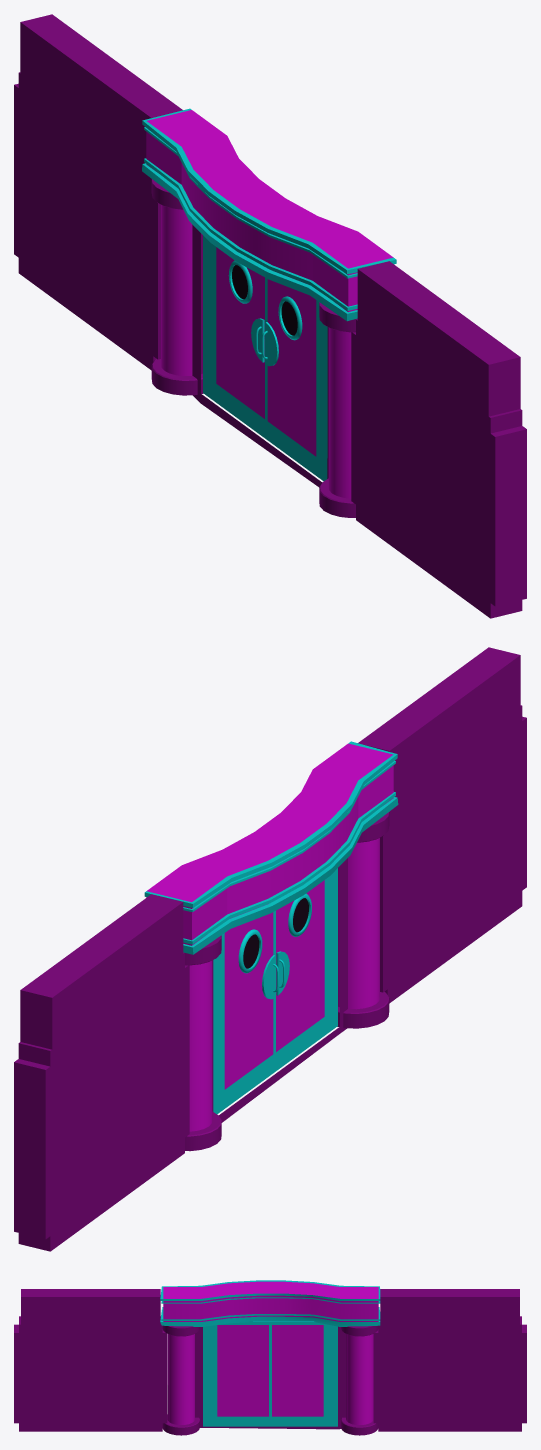
Rendered from WW_CinemaRoom_Env_01.fbx.
3 views of the same model, one above another, from view 1: azimuth 30°, elevation 25°; view 2: azimuth 150°, elevation 25°; view 3: azimuth 270°, elevation 25° (orthographic). The views are drawn at different scales.
Visible parts, largest first — view 1: WW_CinemaCorrodorWall_02, WW_CinemaCorrodorWall_01, CinemaRoomTop_geo_01, Door_geo_01 (×2), CinemaRoomPillar_geo_02, CinemaRoomPillar_geo_01, Doortrim_geo_01, CinemaRoomBase_geo_01; view 2: WW_CinemaCorrodorWall_01, WW_CinemaCorrodorWall_02, CinemaRoomTop_geo_01, Door_geo_01 (×2), CinemaRoomPillar_geo_01, CinemaRoomPillar_geo_02, Doortrim_geo_01, CinemaRoomBase_geo_01; view 3: WW_CinemaCorrodorWall_02, WW_CinemaCorrodorWall_01, Door_geo_01 (×2), CinemaRoomTop_geo_01, Doortrim_geo_01, CinemaRoomPillar_geo_01, CinemaRoomPillar_geo_02, CinemaRoomBase_geo_01.
Part boxes in pixels (bbox=[...]): WW_CinemaCorrodorWall_02: bbox=[351, 261, 526, 618]; WW_CinemaCorrodorWall_01: bbox=[14, 14, 182, 370]; CinemaRoomTop_geo_01: bbox=[142, 108, 396, 321]; Door_geo_01 (×2): bbox=[216, 247, 316, 475]; CinemaRoomPillar_geo_02: bbox=[151, 179, 203, 395]; CinemaRoomPillar_geo_01: bbox=[319, 302, 357, 517]; Doortrim_geo_01: bbox=[203, 235, 327, 481]; CinemaRoomBase_geo_01: bbox=[193, 225, 328, 487]; WW_CinemaCorrodorWall_01: bbox=[14, 894, 189, 1251]; WW_CinemaCorrodorWall_02: bbox=[358, 647, 526, 1003]; CinemaRoomTop_geo_01: bbox=[144, 741, 398, 954]; Door_geo_01 (×2): bbox=[224, 880, 324, 1108]; CinemaRoomPillar_geo_01: bbox=[337, 812, 389, 1028]; CinemaRoomPillar_geo_02: bbox=[185, 935, 221, 1151]; Doortrim_geo_01: bbox=[213, 868, 337, 1114]; CinemaRoomBase_geo_01: bbox=[212, 858, 347, 1122]; WW_CinemaCorrodorWall_02: bbox=[14, 1289, 167, 1431]; WW_CinemaCorrodorWall_01: bbox=[373, 1289, 526, 1431]; Door_geo_01 (×2): bbox=[217, 1325, 323, 1426]; CinemaRoomTop_geo_01: bbox=[160, 1280, 380, 1326]; Doortrim_geo_01: bbox=[203, 1321, 337, 1426]; CinemaRoomPillar_geo_01: bbox=[162, 1325, 199, 1435]; CinemaRoomPillar_geo_02: bbox=[341, 1326, 378, 1435]; CinemaRoomBase_geo_01: bbox=[195, 1326, 345, 1429].
Bounding box in the file's own units: 109 × 341 × 1149.
